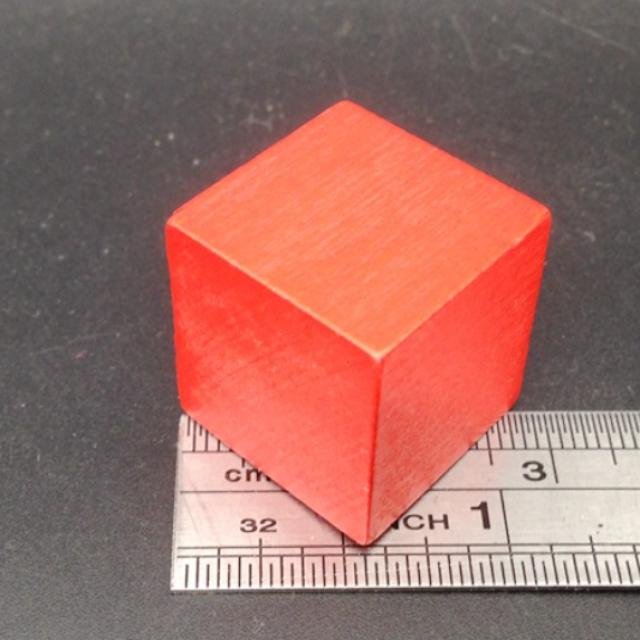red cube: (163, 95, 553, 549)
